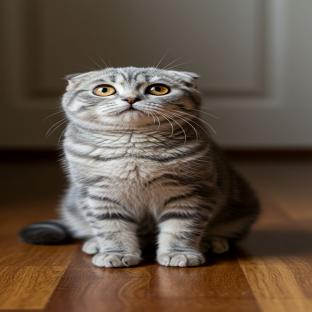Animal: (21, 67, 259, 268)
